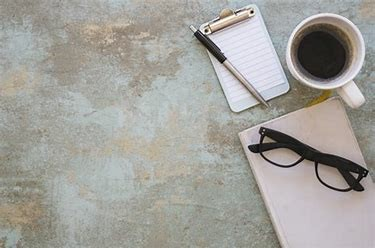pen: (188, 24, 271, 106)
